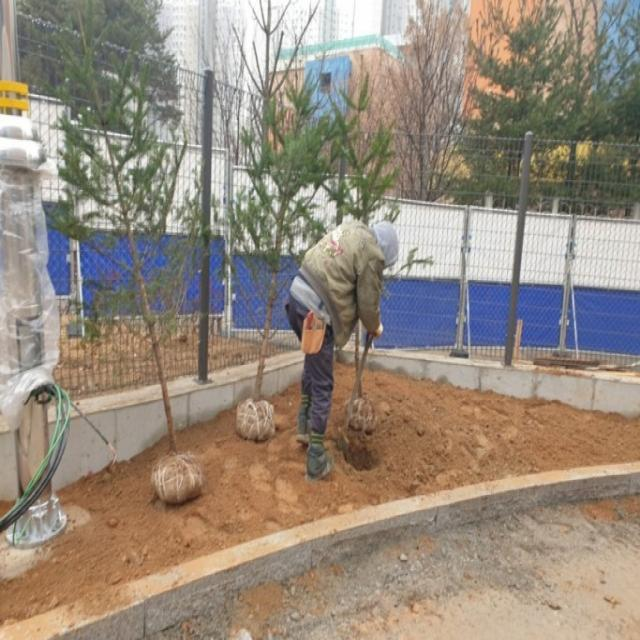plant: (45, 0, 204, 504), (361, 0, 640, 218), (213, 63, 338, 440), (317, 72, 436, 435)
